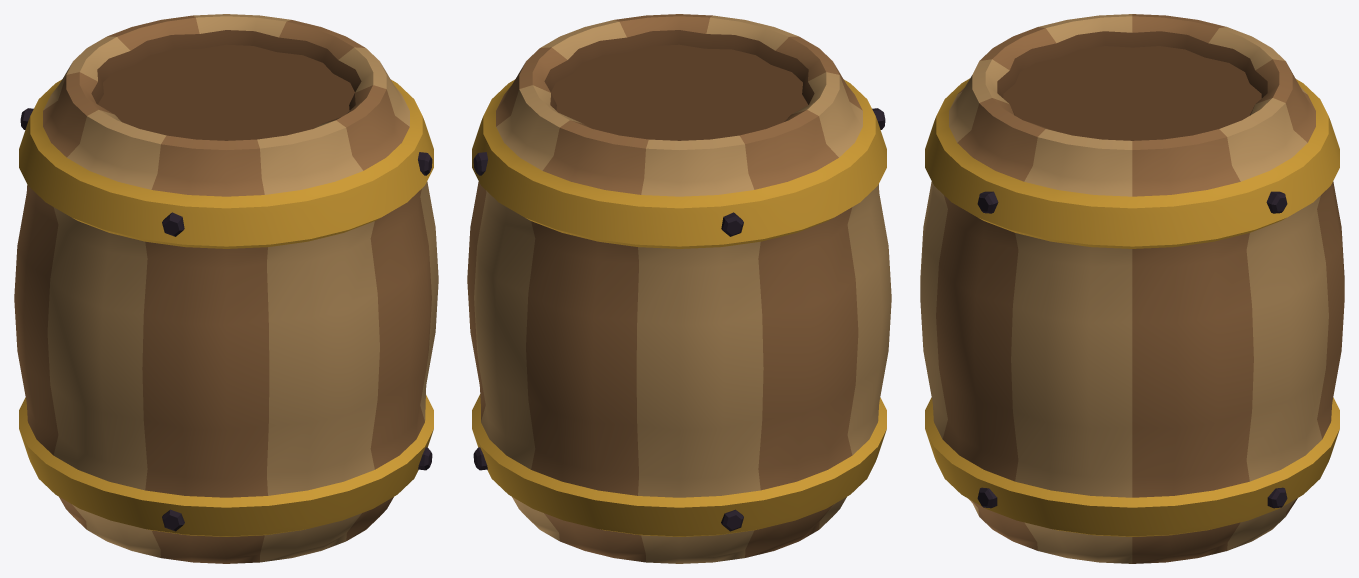
The model's file is Barrel_26.glb.
3 views of the same model, side by side, from view 1: azimuth 30°, elevation 25°; view 2: azimuth 150°, elevation 25°; view 3: azimuth 270°, elevation 25° (orthographic).
Visible parts, largest first — view 1: Barrel_26; view 2: Barrel_26; view 3: Barrel_26.
Boxes of the visible parts, x1,y1,x2,y2 form: Barrel_26: (14,14,438,563); Barrel_26: (467,14,891,563); Barrel_26: (920,14,1344,563).
Bounding box in the file's own units: 2.15 × 2.39 × 2.18.
